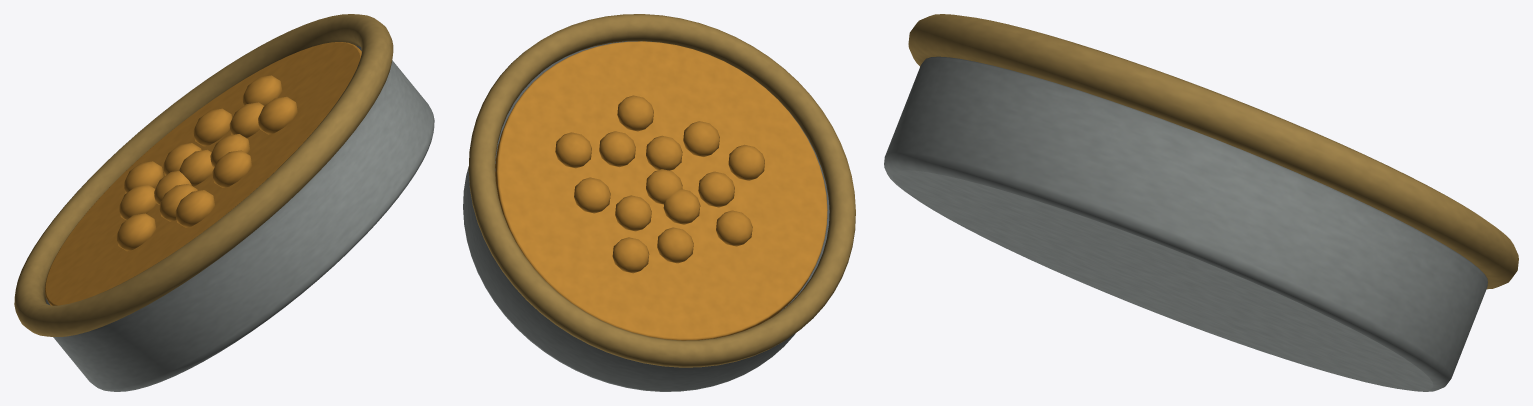
The picture shows the model from 3 angles, left to right: view 1: azimuth 30°, elevation 25°; view 2: azimuth 150°, elevation 25°; view 3: azimuth 270°, elevation 25°; orthographic projection. The views are drawn at different scales.
Visible parts, largest first — view 1: Thick-walled sample vessel; view 2: Thick-walled sample vessel; view 3: Thick-walled sample vessel.
Boxes of the visible parts, x1,y1,x2,y2 form: Thick-walled sample vessel: [14, 14, 434, 391]; Thick-walled sample vessel: [463, 14, 855, 391]; Thick-walled sample vessel: [884, 14, 1518, 391].
Size of the model in its own units: 0.9707 by 0.7871 by 1.
Materials: 1 (1 with a texture image).
